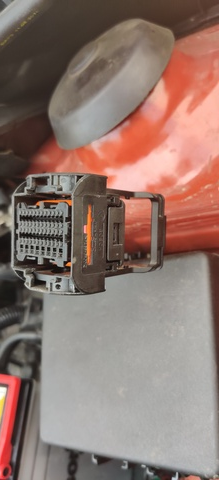connector: (11, 173, 125, 295)
